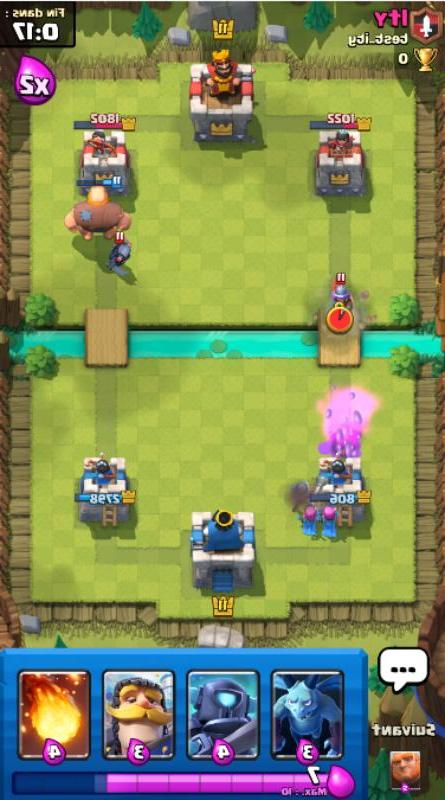archere: (318, 503, 340, 538)
geant: (64, 175, 133, 243)
mini_PEKKA: (104, 232, 133, 277)
mousquetaire: (290, 476, 328, 513), (329, 272, 354, 315)
